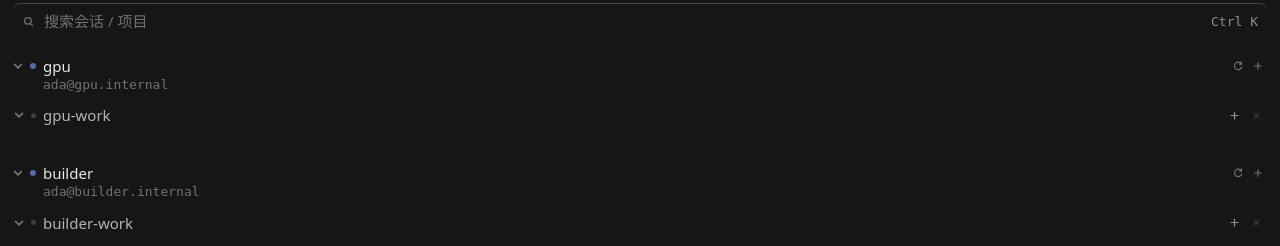
it: the rail's search reaches every machine › puts every machine back when the word is cleared
In the search field labelled "搜索会话 / 项目": (623,21) [42,10,1204,32], type "gpu"
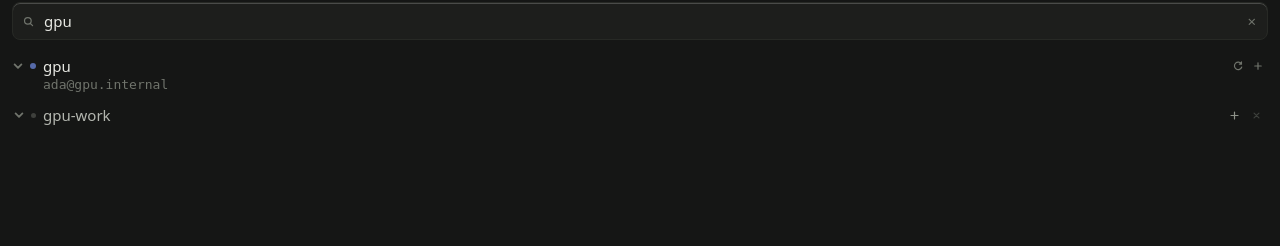
Expected: the text "builder" is gone
Clear the search field named "搜索会话 / 项目": (640,21) [42,10,1238,32]
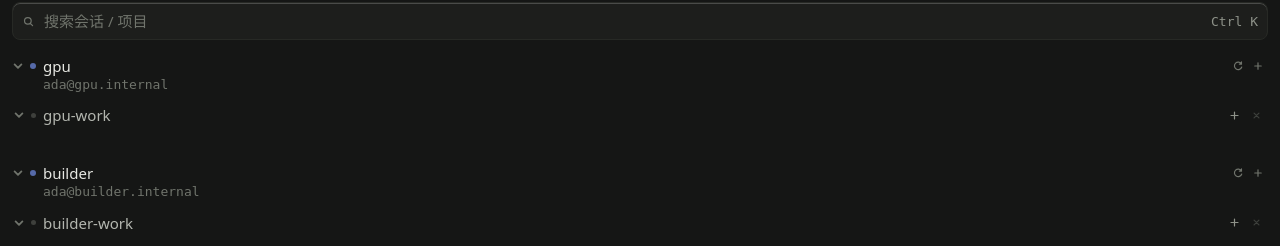
Expected: the text "builder" is shown, [43,163,93,183]
